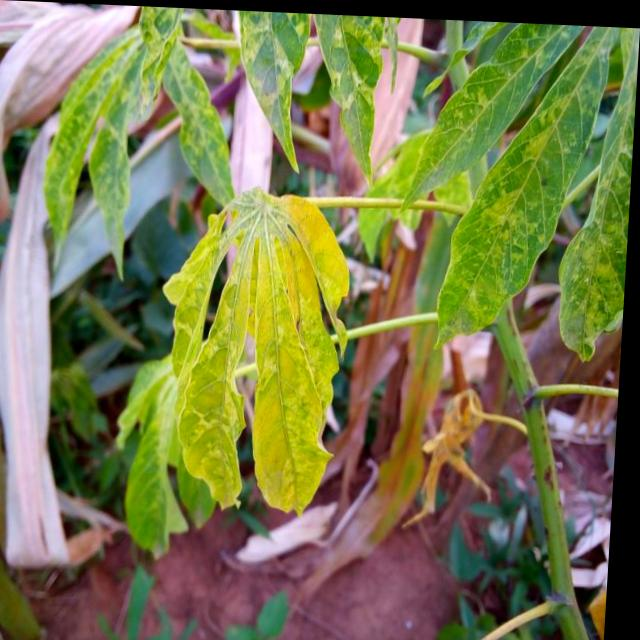Mosaico: (135, 154, 369, 518), (417, 2, 614, 355), (53, 10, 259, 272)
